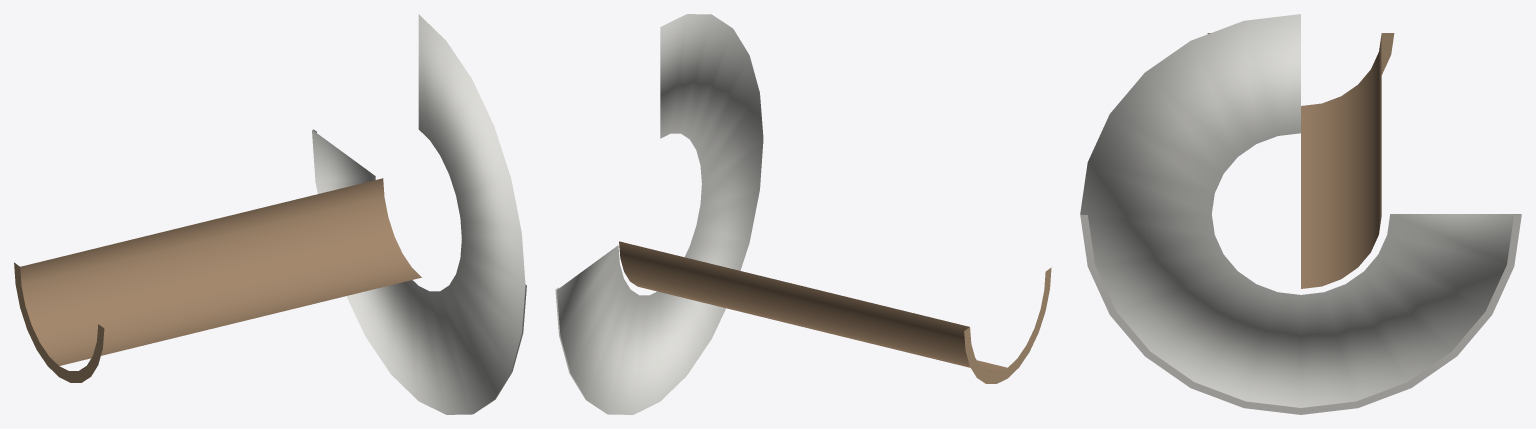
The model's file is 09_toilet_paper_roll_h.glb.
3 renders of one model, left to right at view 1: azimuth 30°, elevation 25°; view 2: azimuth 150°, elevation 25°; view 3: azimuth 270°, elevation 25°, orthographic. The views are drawn at different scales.
Parts seen in each view (by area): view 1: cardboard_core_interior; view 2: cardboard_core_interior; view 3: cardboard_core_interior.
Boxes of the visible parts, x1,y1,x2,y2 form: cardboard_core_interior: (14,14,526,414); cardboard_core_interior: (555,14,1051,414); cardboard_core_interior: (1080,14,1521,414).
Bounding box in the file's own units: 0.102 × 0.104 × 0.104.
